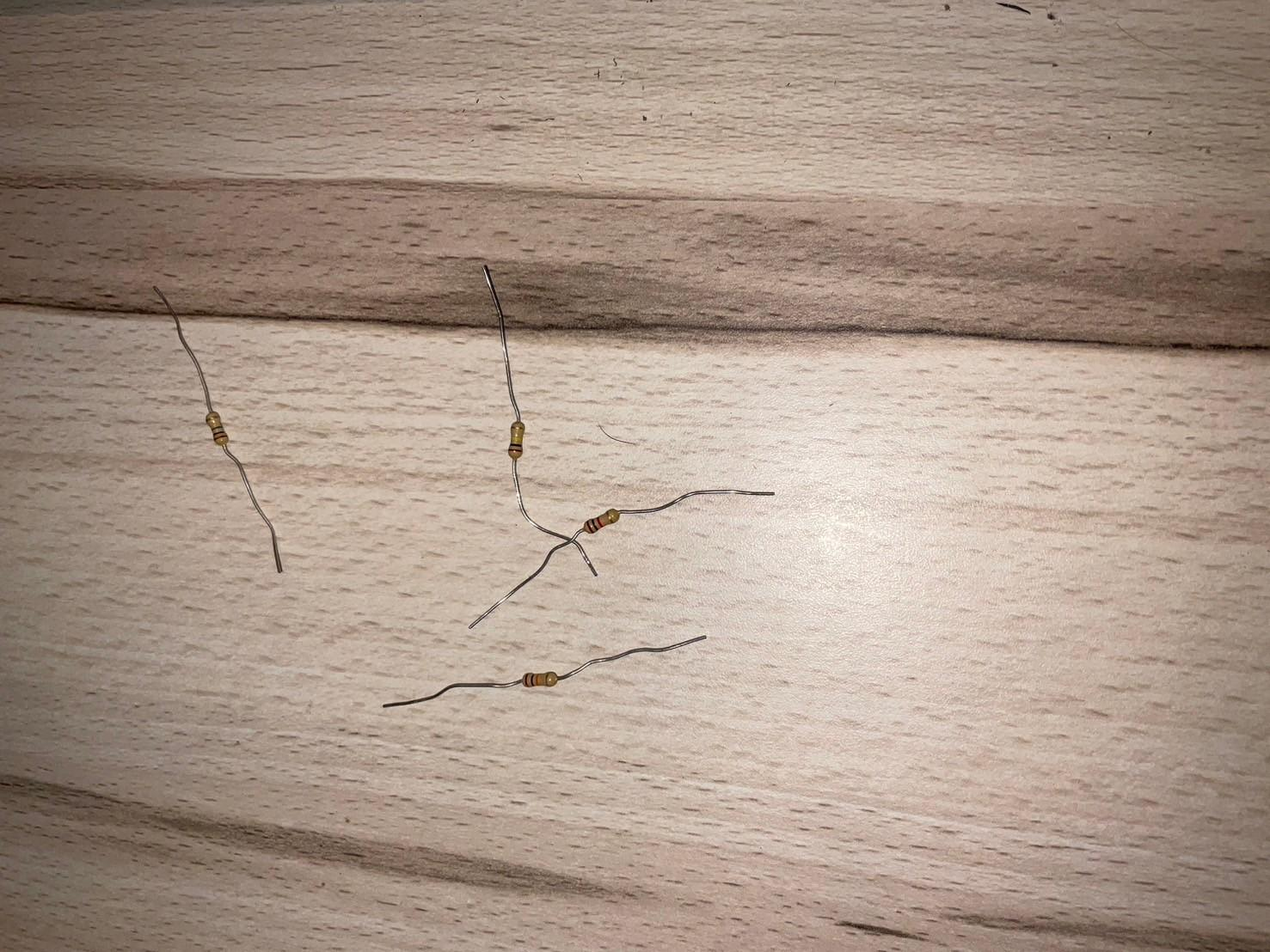resistor: (582, 506, 619, 536), (206, 410, 230, 449), (522, 669, 559, 689), (508, 421, 526, 459)
